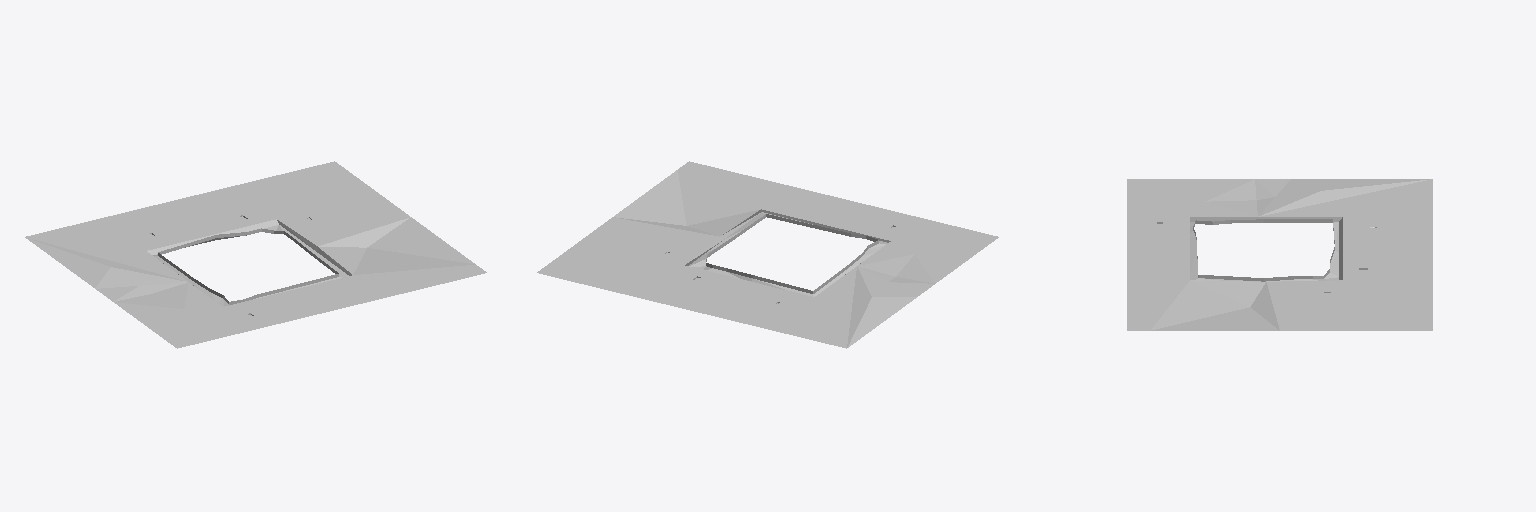
The model's file is Huge Skylight.obj.
The picture shows the model from 3 angles: view 1: azimuth 30°, elevation 25°; view 2: azimuth 150°, elevation 25°; view 3: azimuth 270°, elevation 25°; orthographic projection.
Visible parts, largest first — view 1: UModeler_Object.001; view 2: UModeler_Object.001; view 3: UModeler_Object.001.
Boxes of the visible parts, <box> form: UModeler_Object.001: <box>25,161,486,348</box>; UModeler_Object.001: <box>537,161,998,348</box>; UModeler_Object.001: <box>1127,179,1432,330</box>.
Size of the model in its own units: 30.27 by 0.8013 by 25.77.